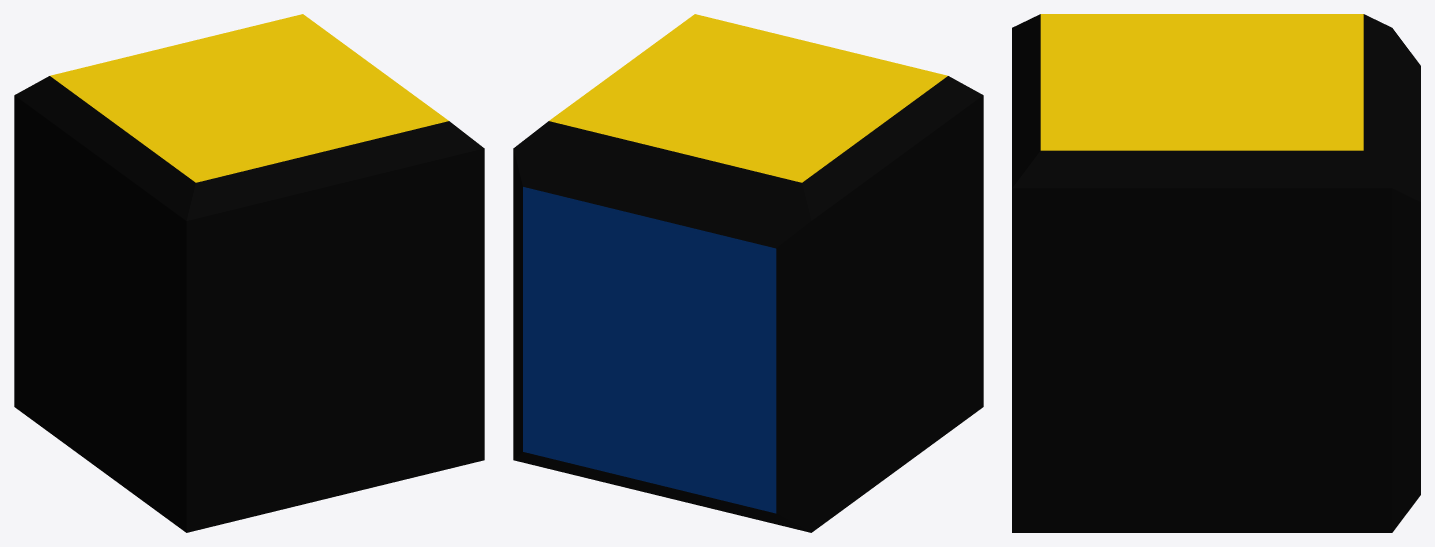
The model's file is rubiks_cube_16.glb.
3 views of the same model, side by side, from view 1: azimuth 30°, elevation 25°; view 2: azimuth 150°, elevation 25°; view 3: azimuth 270°, elevation 25° (orthographic). The views are drawn at different scales.
Parts seen in each view (by area): view 1: Cube16.001; view 2: Cube16.001; view 3: Cube16.001.
Part boxes in pixels (bbox=[...]): Cube16.001: bbox=[14, 14, 484, 532]; Cube16.001: bbox=[513, 14, 983, 532]; Cube16.001: bbox=[1012, 14, 1420, 532].
Bounding box in the file's own units: 2 × 2.15 × 2.15.
